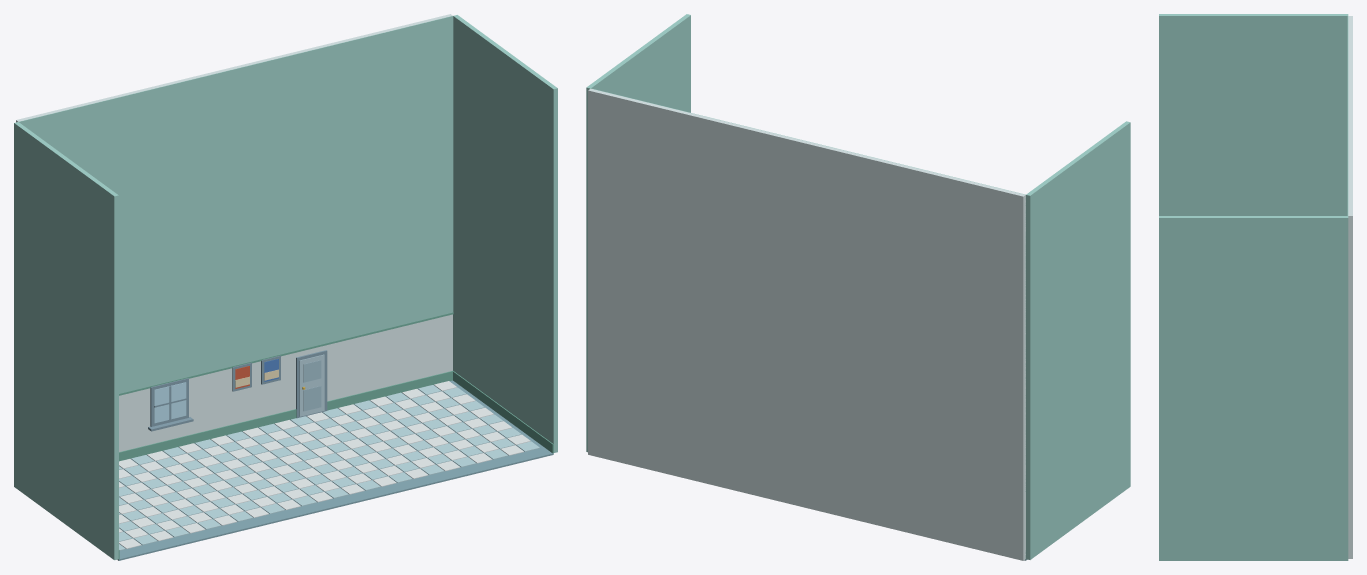
File: room_hospital.glb
The picture shows the model from 3 angles, left to right: view 1: azimuth 30°, elevation 25°; view 2: azimuth 150°, elevation 25°; view 3: azimuth 270°, elevation 25°; orthographic projection. The views are drawn at different scales.
Visible parts, largest first — view 1: room; view 2: room; view 3: room.
Boxes of the visible parts, x1=… form: room: x1=14, y1=14, x2=557, y2=560; room: x1=586, y1=14, x2=1130, y2=560; room: x1=1159, y1=14, x2=1352, y2=560.
Size of the model in its own units: 30.6 by 24.11 by 12.3.
